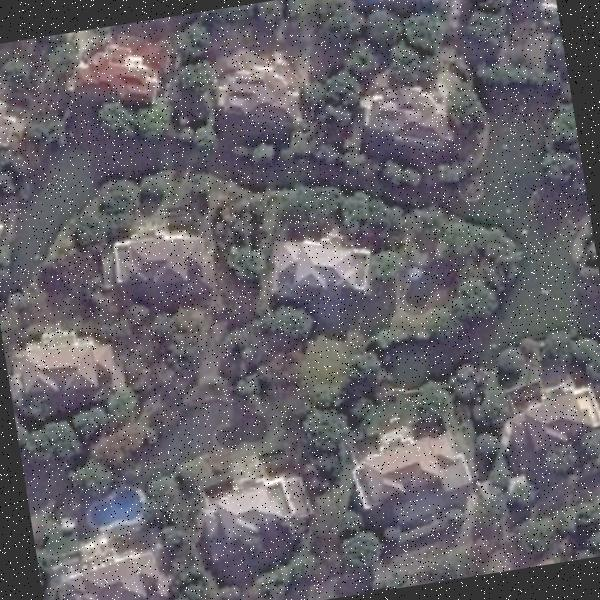Buildings: (199, 460, 305, 560), (352, 430, 471, 519), (270, 238, 368, 304), (106, 236, 212, 296), (352, 89, 450, 152), (218, 60, 296, 136), (74, 45, 150, 112), (518, 382, 597, 445), (15, 344, 102, 401), (67, 550, 157, 600)
